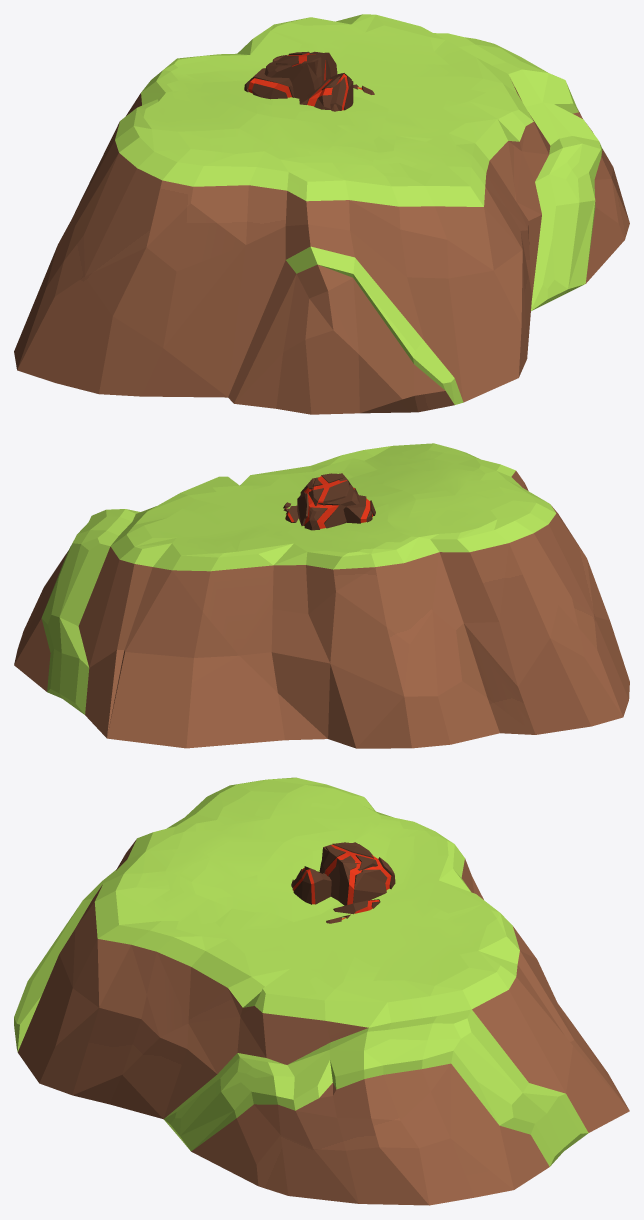
File: sanctuary.glb
The picture shows the model from 3 angles, top to bottom: view 1: azimuth 30°, elevation 25°; view 2: azimuth 150°, elevation 25°; view 3: azimuth 270°, elevation 25°; orthographic projection. The views are drawn at different scales.
Parts seen in each view (by area): view 1: prop.scatter.hill, prop.burn.lavaColumnAlt, prop.burn.lavaColumn; view 2: prop.scatter.hill, prop.burn.lavaColumnAlt, prop.burn.lavaColumn; view 3: prop.scatter.hill, prop.burn.lavaColumn, prop.burn.lavaColumnAlt.
Boxes of the visible parts, x1,y1,x2,y2 form: prop.scatter.hill: (14,14,629,414); prop.burn.lavaColumnAlt: (244,52,374,109); prop.burn.lavaColumn: (276,51,353,110); prop.scatter.hill: (14,443,629,748); prop.burn.lavaColumnAlt: (283,473,375,530); prop.burn.lavaColumn: (285,473,349,522); prop.scatter.hill: (14,777,629,1205); prop.burn.lavaColumn: (292,843,380,914); prop.burn.lavaColumnAlt: (297,842,395,923).
Size of the model in its own units: 29.36 by 10.01 by 26.05.
1 material, 1 textured.
